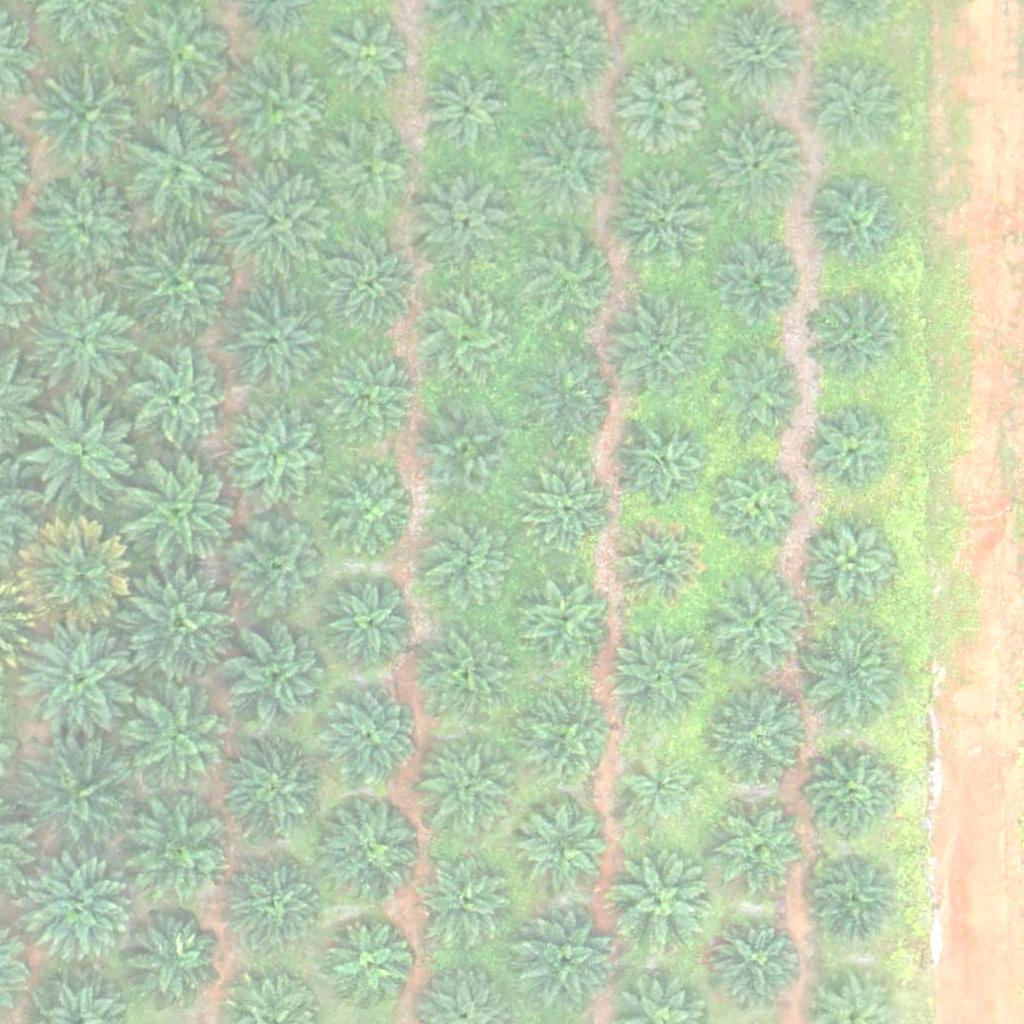Kelapa_Sawit: (21, 858, 134, 972), (121, 113, 234, 226), (219, 165, 332, 278), (222, 285, 335, 398), (123, 686, 236, 799), (19, 519, 132, 632), (21, 620, 134, 733), (18, 738, 131, 851), (35, 66, 147, 179), (28, 172, 140, 285), (28, 291, 140, 404), (25, 397, 137, 510), (128, 231, 240, 344), (129, 455, 241, 568), (122, 568, 234, 681), (129, 351, 229, 452), (321, 346, 421, 447), (521, 119, 621, 220), (612, 58, 712, 159), (611, 169, 711, 270), (612, 302, 712, 403), (714, 3, 814, 104), (707, 114, 807, 215), (806, 173, 906, 274), (616, 853, 716, 954), (516, 573, 616, 674), (517, 689, 617, 790), (515, 913, 615, 1014), (422, 509, 522, 610), (419, 626, 519, 727), (418, 735, 518, 836), (417, 852, 517, 953), (318, 686, 418, 787), (323, 799, 423, 900), (228, 517, 328, 618), (226, 626, 326, 727), (224, 742, 324, 843), (226, 852, 326, 953), (134, 796, 234, 897), (131, 1, 231, 101), (229, 61, 329, 161), (317, 119, 417, 219), (415, 167, 515, 267), (524, 228, 624, 328), (523, 348, 623, 448), (801, 623, 901, 723), (706, 575, 806, 675), (708, 689, 808, 789), (611, 627, 711, 727), (123, 908, 223, 1008), (423, 68, 511, 156), (422, 290, 510, 378), (425, 409, 513, 497), (712, 238, 800, 326), (814, 294, 902, 382), (810, 408, 898, 496), (811, 518, 899, 606), (718, 805, 806, 893), (712, 915, 800, 1003), (525, 465, 613, 553), (325, 923, 413, 1011), (234, 415, 321, 503), (329, 239, 416, 327), (716, 350, 803, 438), (812, 63, 899, 151), (621, 422, 708, 510), (811, 755, 898, 843), (812, 852, 899, 940), (713, 461, 800, 549), (617, 519, 704, 607), (520, 801, 607, 889), (325, 468, 412, 556), (328, 583, 415, 671), (623, 755, 698, 831), (333, 16, 408, 92)
